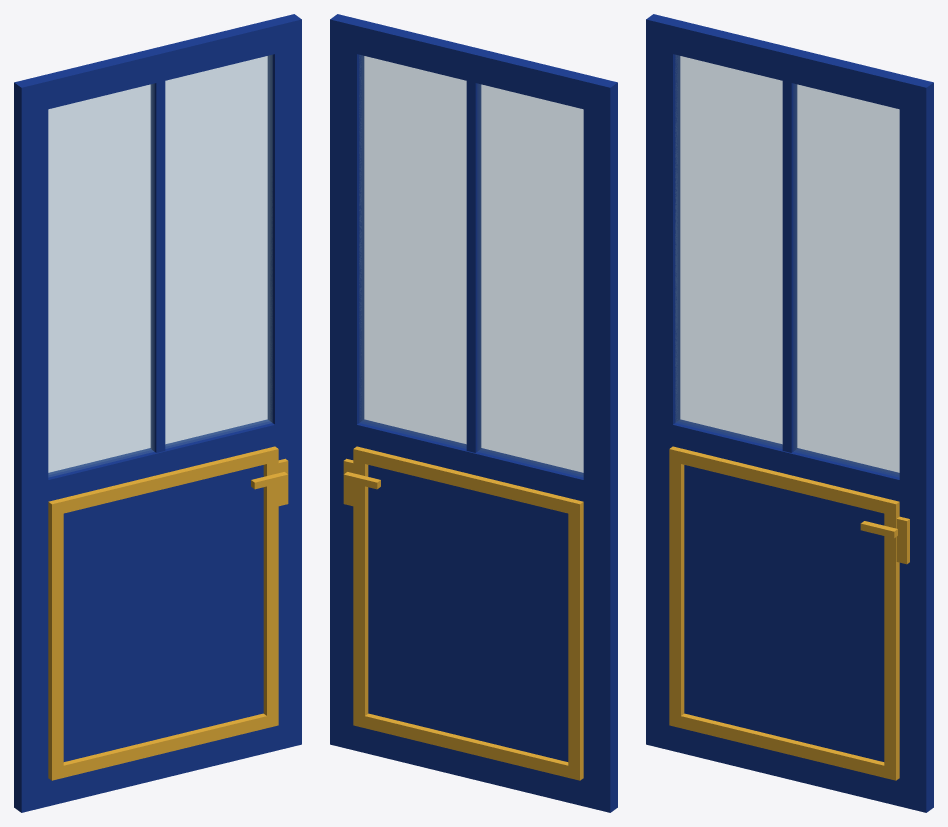
Rendered from SM_Door_academy_110x270.fbx.
3 renders of one model, left to right at view 1: azimuth 30°, elevation 25°; view 2: azimuth 150°, elevation 25°; view 3: azimuth 330°, elevation 25°, orthographic.
Visible parts, largest first — view 1: SM_Door_academy_110x270; view 2: SM_Door_academy_110x270; view 3: SM_Door_academy_110x270.
Boxes of the visible parts, x1,y1,x2,y2 form: SM_Door_academy_110x270: (14, 14, 301, 812); SM_Door_academy_110x270: (330, 14, 617, 812); SM_Door_academy_110x270: (646, 14, 933, 812).
Bounding box in the file's own units: 1.09 × 2.69 × 0.175.
